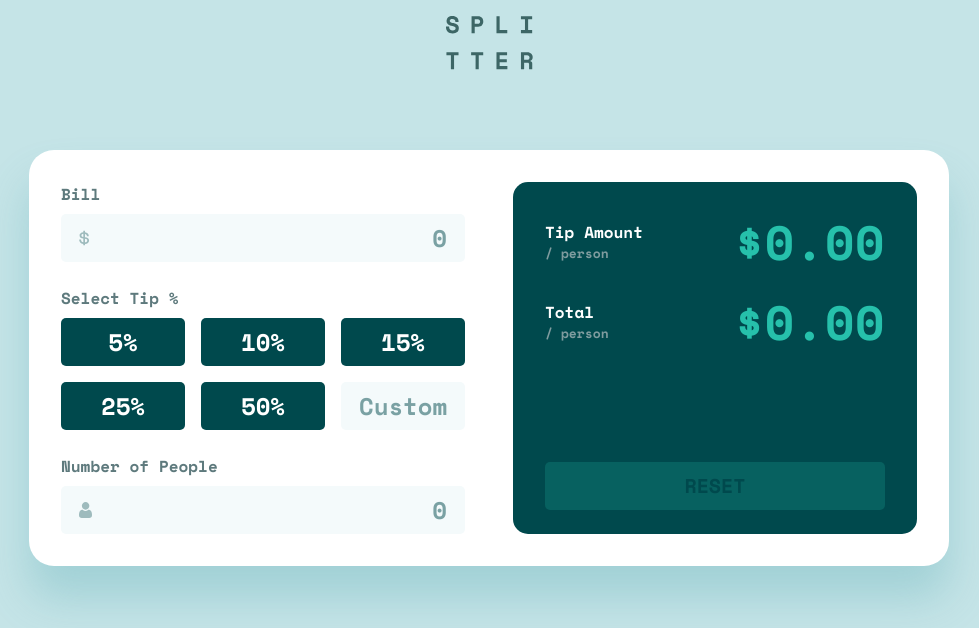
Tipcalculator component › calculates correctly using a custom tip percentage
Type "142.55" into the number field labelled "Bill".
click(268, 238); type("142.55")  # box left=90, top=220, right=447, bottom=256
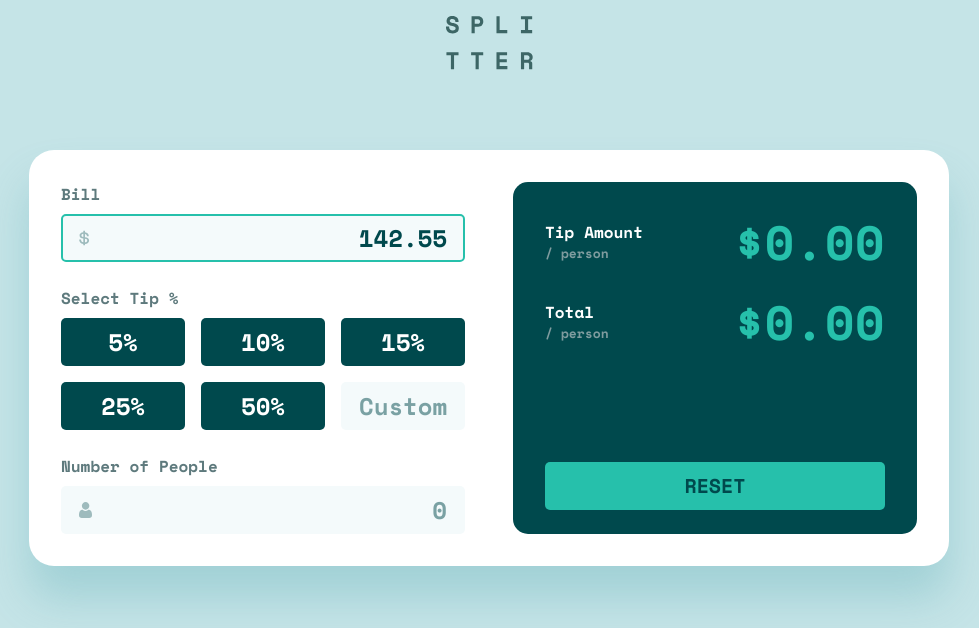
Type "15" into the number field named "custom tip percentage".
click(403, 406); type("15")  # box left=359, top=388, right=447, bottom=424
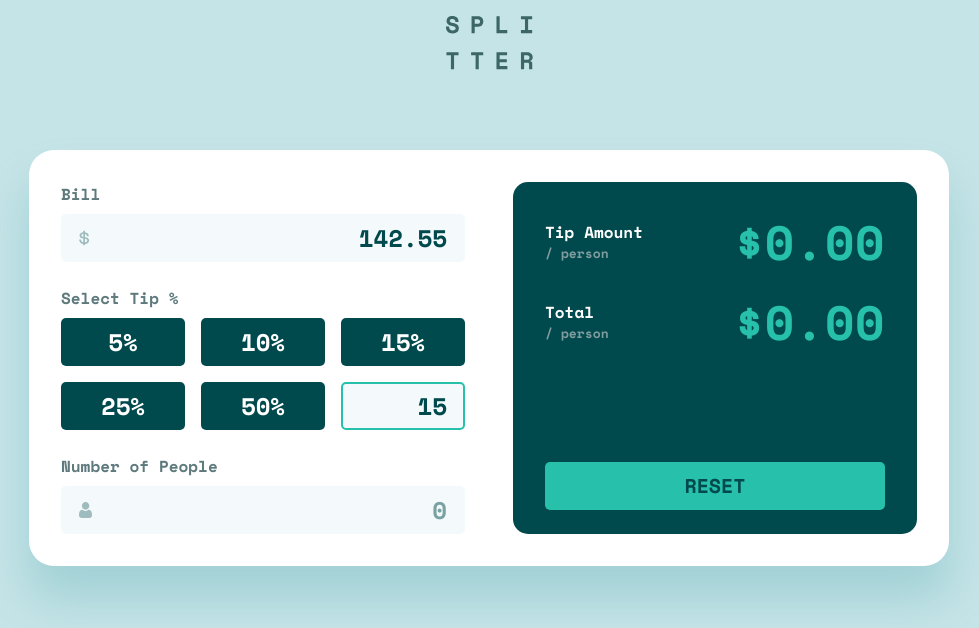
Type "5" into the number field labelled "Number of People".
click(269, 510); type("5")  # box left=92, top=492, right=447, bottom=528
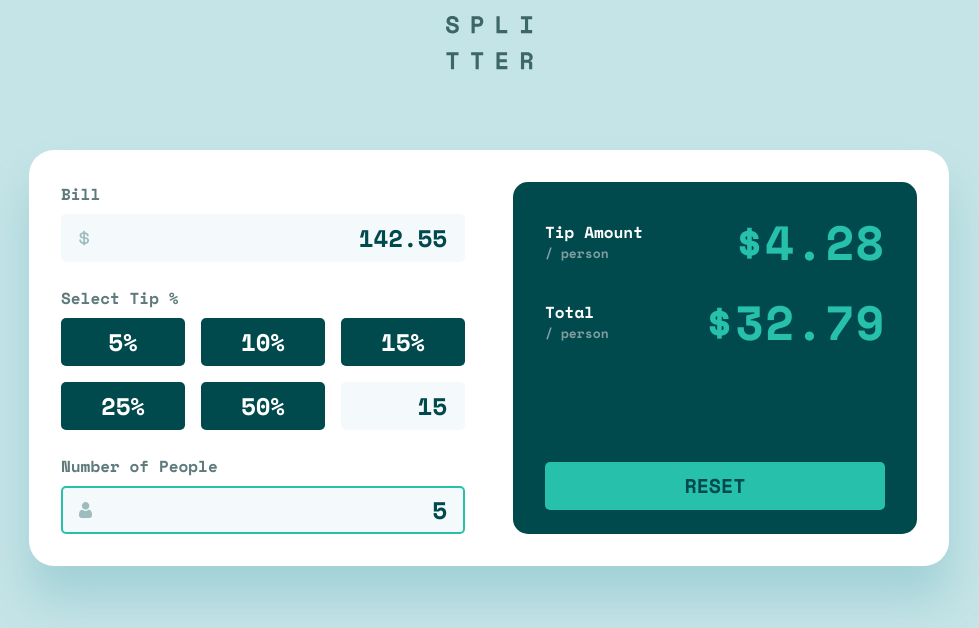
Check: the text with id "tip-amount-display" reads "4.28", box left=765, top=206, right=885, bottom=277
Check: the text with id "total-amount-display" reads "32.79", box left=735, top=286, right=885, bottom=357
